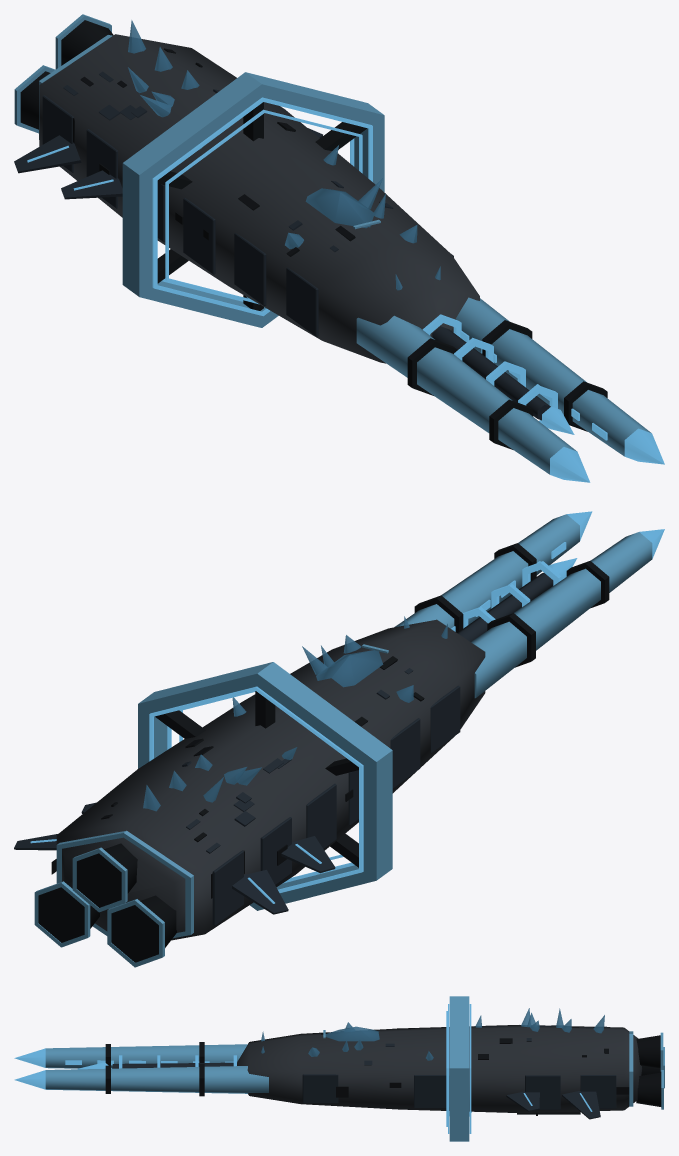
The model's file is kamerton-rezonanci-coalition-23-lod0.glb.
3 views of the same model, one above another, from view 1: azimuth 30°, elevation 25°; view 2: azimuth 150°, elevation 25°; view 3: azimuth 270°, elevation 25° (orthographic). The views are drawn at different scales.
Bounding box in the file's own units: 9.23 × 7.78 × 31.58.
